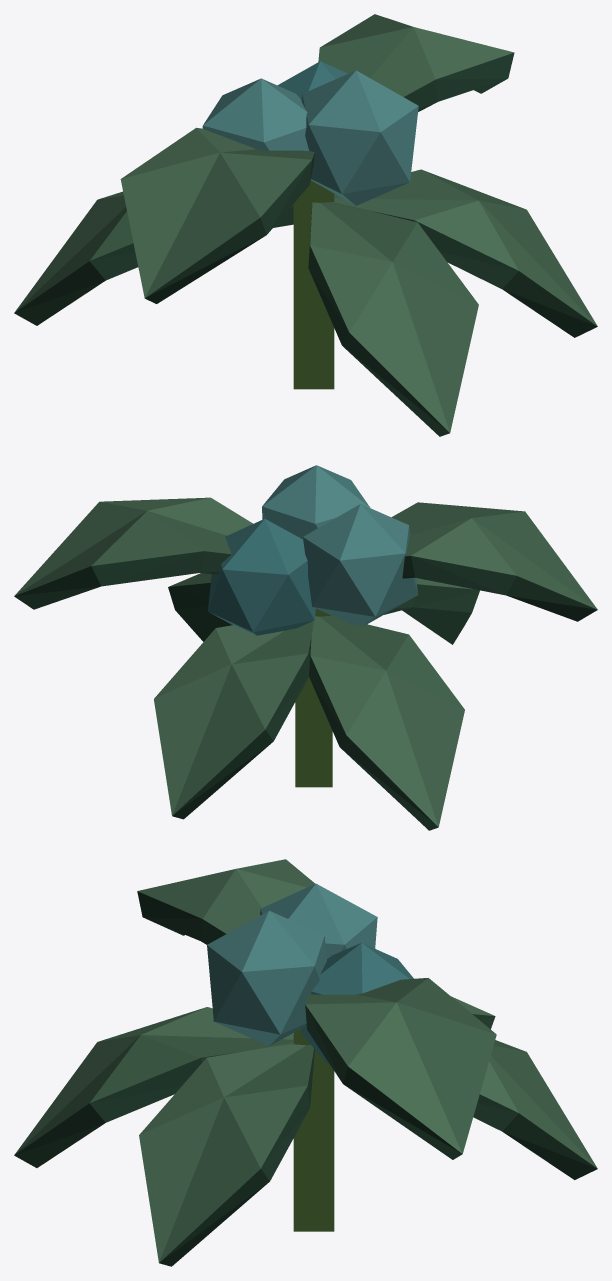
Rendered from healroot_2.obj.
3 renders of one model, top to bottom at view 1: azimuth 30°, elevation 25°; view 2: azimuth 150°, elevation 25°; view 3: azimuth 270°, elevation 25°, orthographic. The views are drawn at different scales.
Parts seen in each view (by area): view 1: healroot_2; view 2: healroot_2; view 3: healroot_2.
Part boxes in pixels (x1,y1,x2,y2): healroot_2: [14, 14, 597, 436]; healroot_2: [14, 465, 597, 830]; healroot_2: [14, 859, 597, 1266].
Bounding box in the file's own units: 0.5325 × 0.336 × 0.5462.
